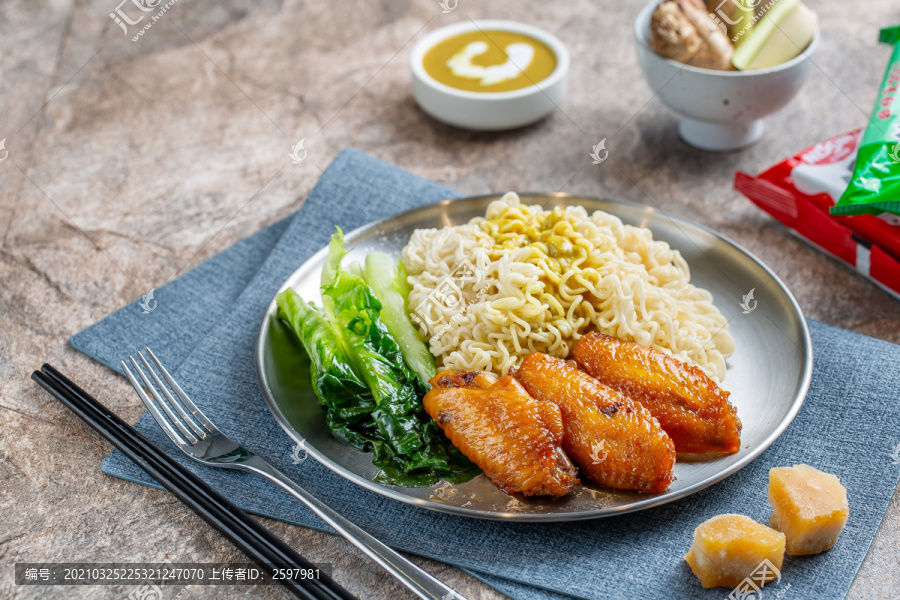chicken-wing: (421, 331, 742, 496)
